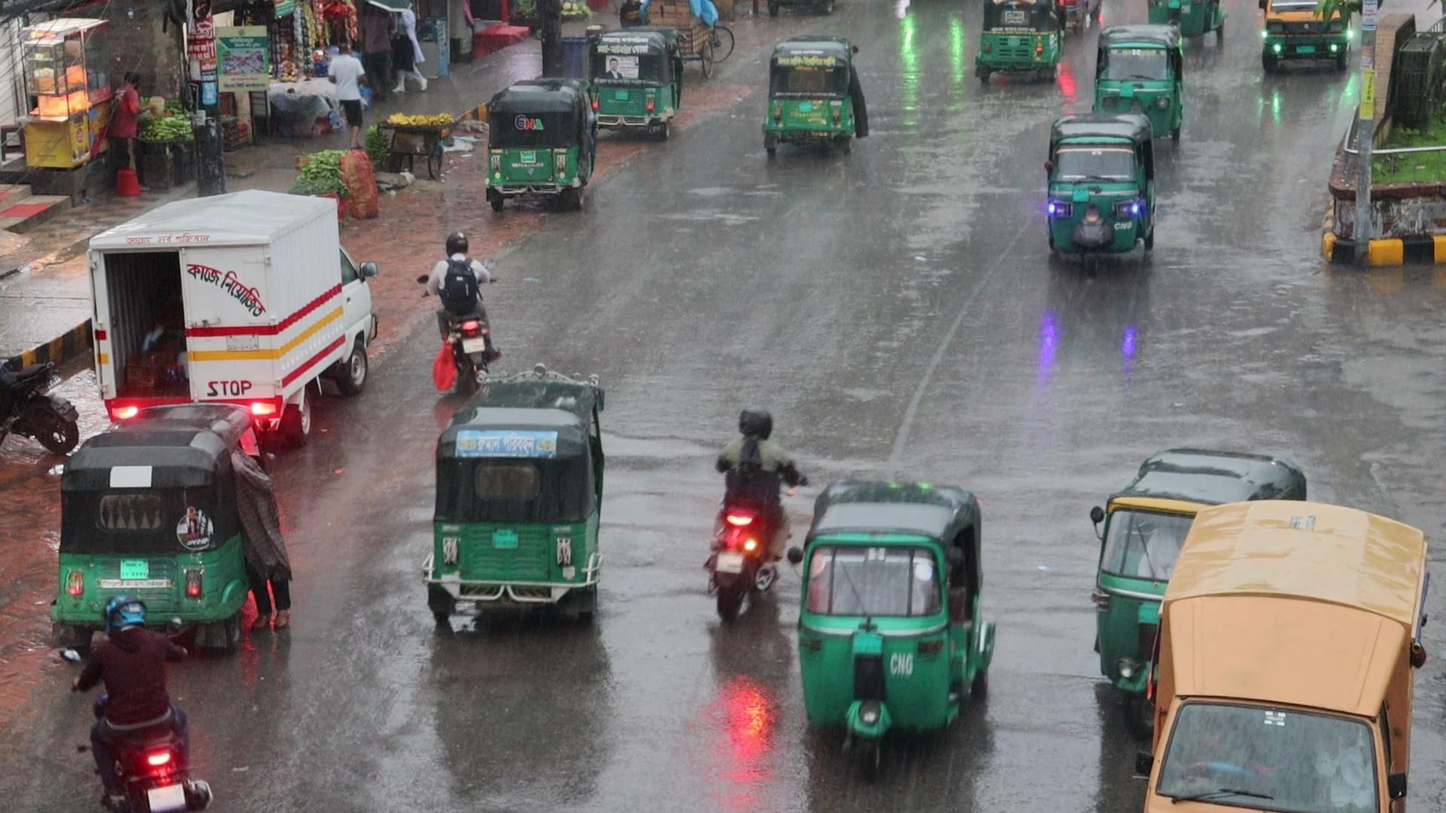Bike: (75, 591, 206, 813), (710, 406, 794, 630), (417, 230, 504, 385)
Truck: (1145, 500, 1429, 813)
